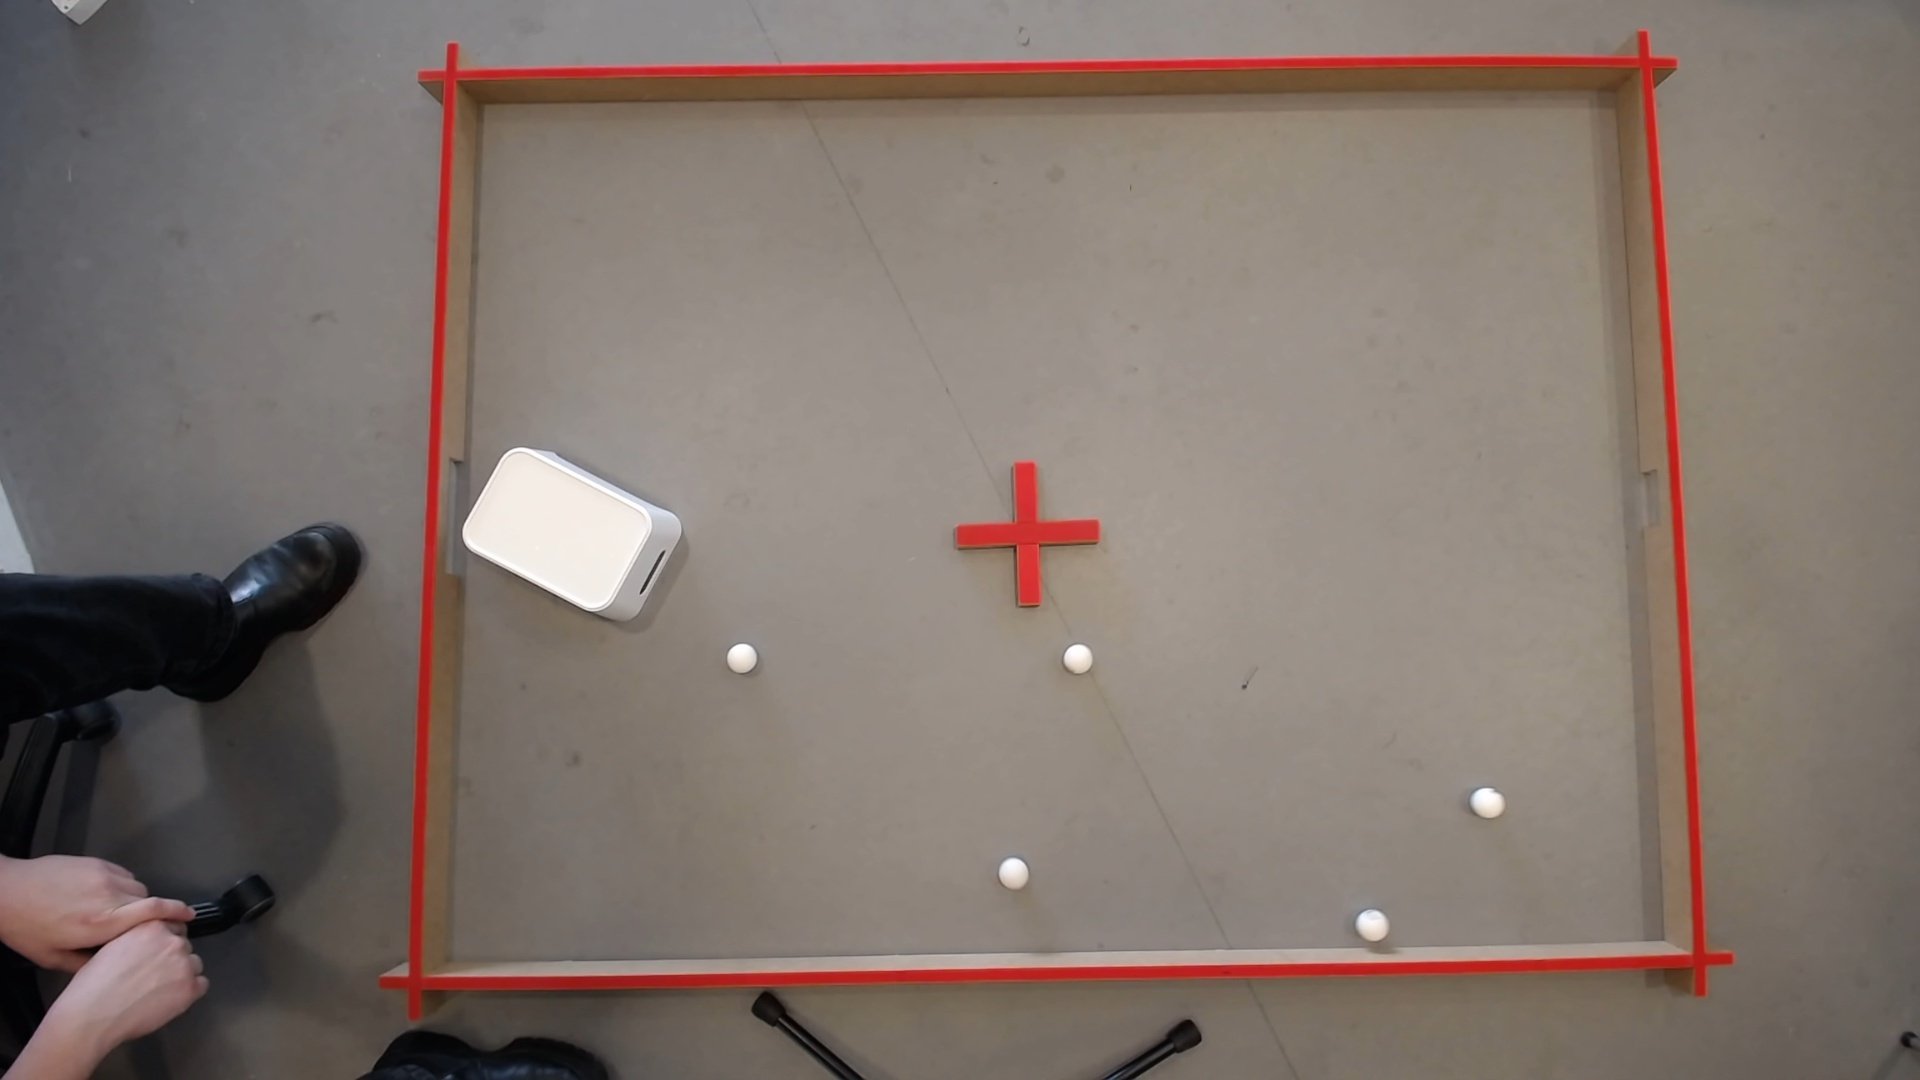balls: (47, 915, 160, 1025), (1466, 781, 1507, 820), (1353, 903, 1391, 944), (1060, 638, 1096, 674), (723, 638, 758, 673), (996, 852, 1030, 886), (113, 894, 153, 918)
car: (78, 872, 99, 884)
